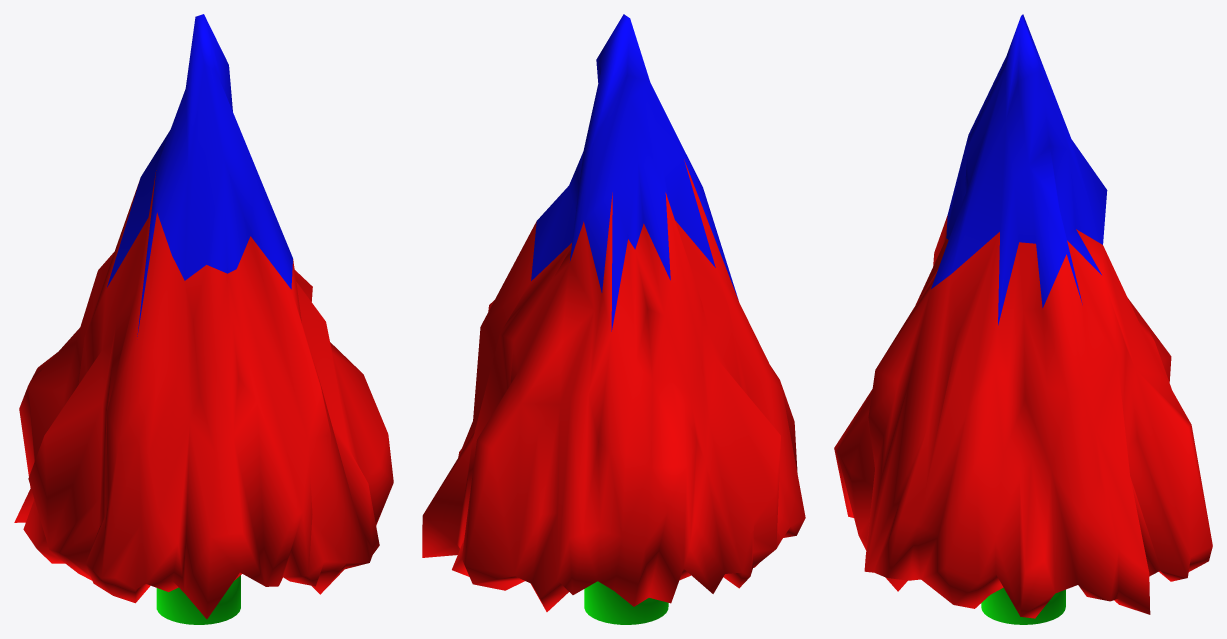
The model's file is Christmas Tree 5.fbx.
The picture shows the model from 3 angles, left to right: view 1: azimuth 30°, elevation 25°; view 2: azimuth 150°, elevation 25°; view 3: azimuth 270°, elevation 25°; orthographic projection.
Parts seen in each view (by area): view 1: Christmas Tree 5; view 2: Christmas Tree 5; view 3: Christmas Tree 5.
Part boxes in pixels (bbox=[...]): Christmas Tree 5: bbox=[14, 14, 393, 624]; Christmas Tree 5: bbox=[422, 14, 805, 624]; Christmas Tree 5: bbox=[834, 14, 1212, 624].
Size of the model in its own units: 149 by 253 by 146.
